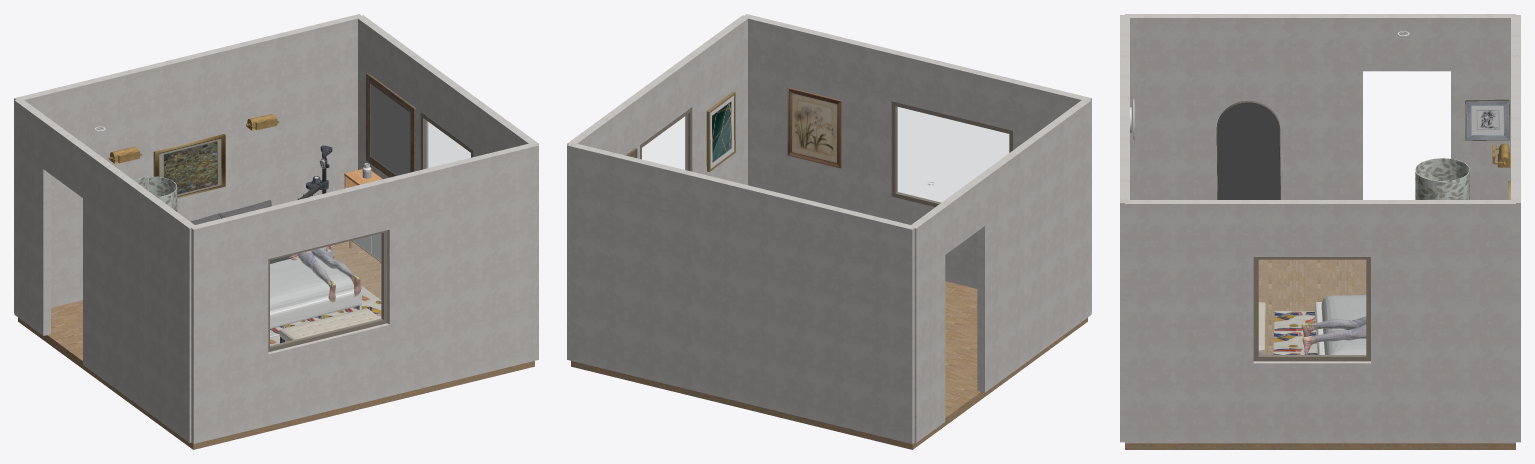
The picture shows the model from 3 angles, left to right: view 1: azimuth 30°, elevation 25°; view 2: azimuth 150°, elevation 25°; view 3: azimuth 270°, elevation 25°; orthographic projection. The views are drawn at different scales.
Visible parts, largest first — view 1: world (×12), glass (×2), room_geometry_bedroom__v0, mig_00wood.002, frame (×2), bedroom_rug_0; view 2: world (×9), glass (×2), room_geometry_bedroom__v0, Shader1, frame (×2); view 3: world (×13), glass, room_geometry_bedroom__v0, frame, bedroom_rug_0, right_lowerleg_link, left_lowerleg_link.
Part boxes in pixels (<box>): world (×12): <box>14,14,538,443</box>; glass (×2): <box>270,120,470,346</box>; room_geometry_bedroom__v0: <box>18,241,534,449</box>; mig_00wood.002: <box>153,134,225,198</box>; frame (×2): <box>268,112,473,352</box>; bedroom_rug_0: <box>270,273,381,345</box>; world (×9): <box>567,14,1091,443</box>; glass (×2): <box>642,107,1008,202</box>; room_geometry_bedroom__v0: <box>571,281,1087,449</box>; Shader1: <box>787,87,841,168</box>; frame (×2): <box>640,101,1012,207</box>; world (×13): <box>1120,14,1520,443</box>; glass: <box>1259,260,1365,355</box>; room_geometry_bedroom__v0: <box>1125,259,1515,449</box>; frame: <box>1253,257,1370,361</box>; bedroom_rug_0: <box>1273,311,1317,354</box>; right_lowerleg_link: <box>1302,329,1349,354</box>; left_lowerleg_link: <box>1301,319,1349,336</box>.
Size of the model in its own units: 4.6 by 2.8 by 4.1.
Materials: 55 (26 with a texture image).
